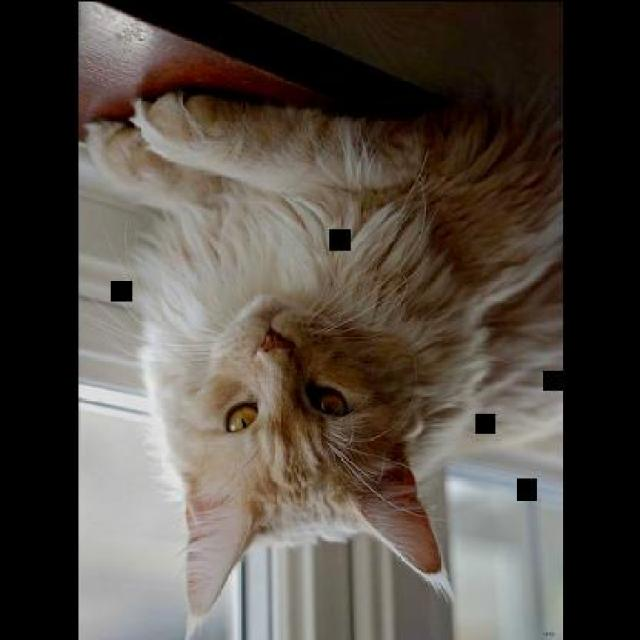unauthorized: (79, 77, 563, 638)
